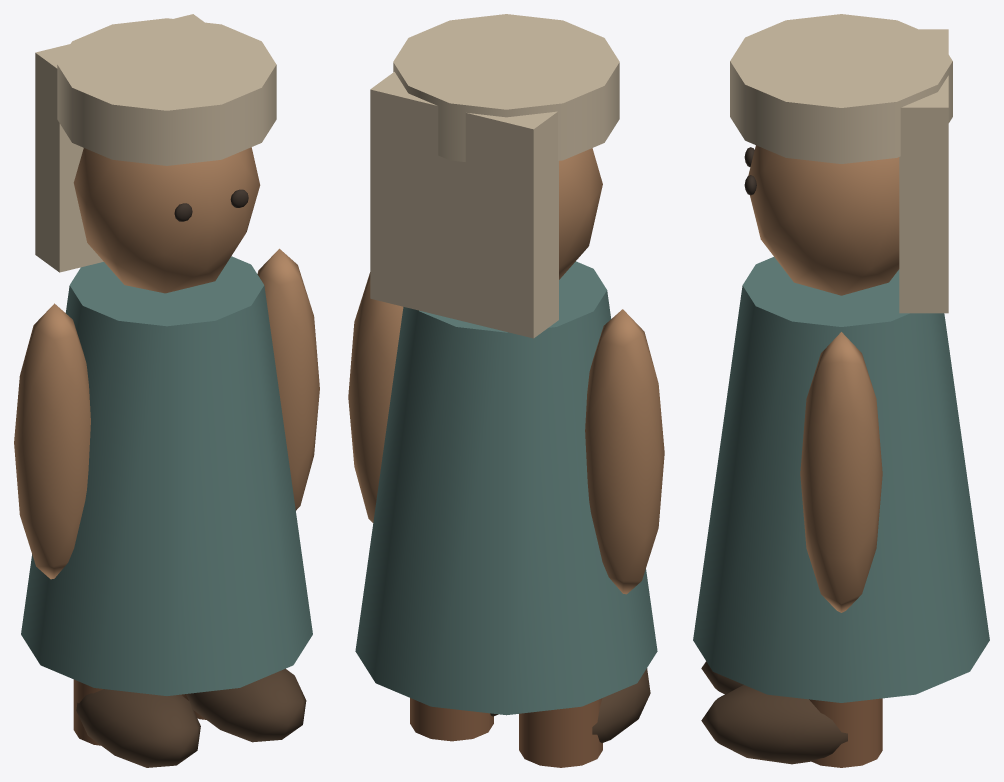
Rendered from resident-bau.glb.
3 renders of one model, left to right at view 1: azimuth 30°, elevation 25°; view 2: azimuth 150°, elevation 25°; view 3: azimuth 270°, elevation 25°, orthographic. The views are drawn at different scales.
Parts seen in each view (by area): view 1: resident-bau; view 2: resident-bau; view 3: resident-bau.
Boxes of the visible parts, x1=… form: resident-bau: x1=14, y1=14, x2=319, y2=767; resident-bau: x1=348, y1=14, x2=664, y2=767; resident-bau: x1=693, y1=14, x2=989, y2=767.
Size of the model in its own units: 0.84 by 1.79 by 0.72.
